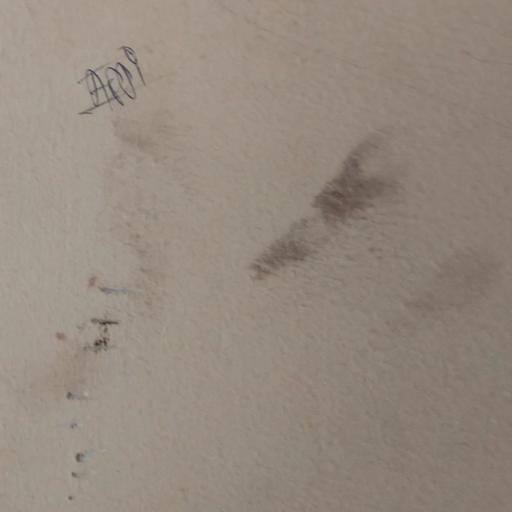stain: (0, 93, 187, 411), (244, 102, 440, 368), (66, 31, 222, 170), (385, 224, 493, 369), (29, 386, 114, 506)
